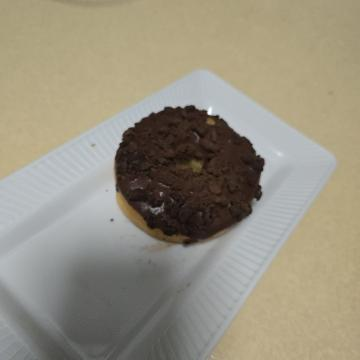doughnut: (86, 82, 262, 262)
